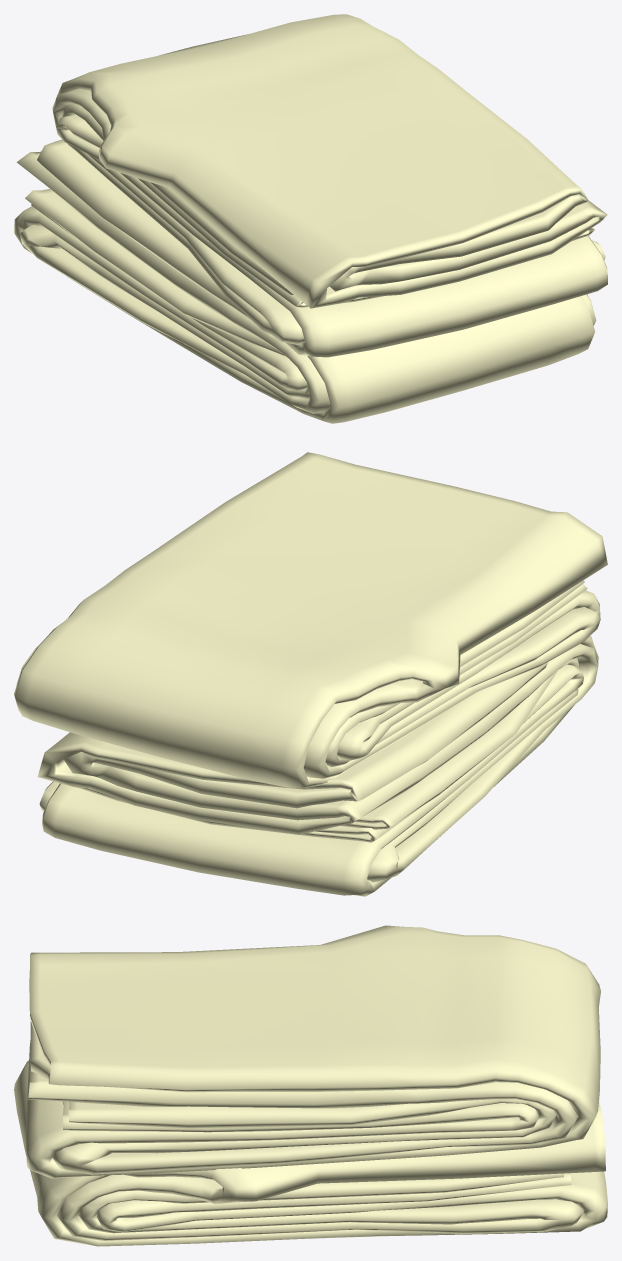
The model's file is Folded_Pant13.fbx.
3 views of the same model, one above another, from view 1: azimuth 30°, elevation 25°; view 2: azimuth 150°, elevation 25°; view 3: azimuth 270°, elevation 25° (orthographic). The views are drawn at different scales.
Parts seen in each view (by area): view 1: Folded_Pant13; view 2: Folded_Pant13; view 3: Folded_Pant13.
Boxes of the visible parts, x1,y1,x2,y2 form: Folded_Pant13: [14, 14, 607, 423]; Folded_Pant13: [14, 452, 607, 896]; Folded_Pant13: [14, 925, 607, 1246].
Size of the model in its own units: 25.02 by 11.51 by 34.5.
